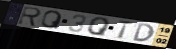3: (68, 14, 87, 33)
D: (132, 22, 155, 43)
Q: (40, 10, 64, 30), (87, 17, 111, 37)
R: (16, 5, 43, 28)
T: (117, 19, 136, 40)
